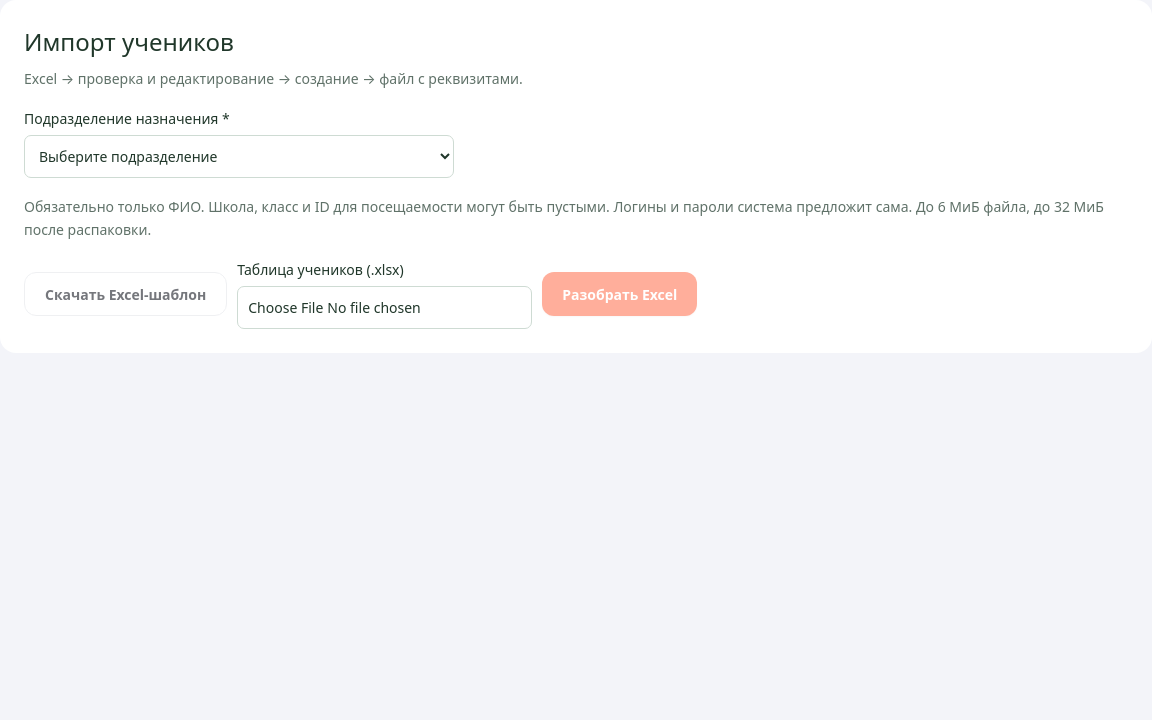
it: requires explicit destination and keeps invalid preview side-effect-free
Expected: the button "Разобрать Excel" is disabled, [542,272,697,316]
Select "QA Резерв" in the dropdown labelled "Подразделение назначения" at (239, 157), box [24,135,454,178]
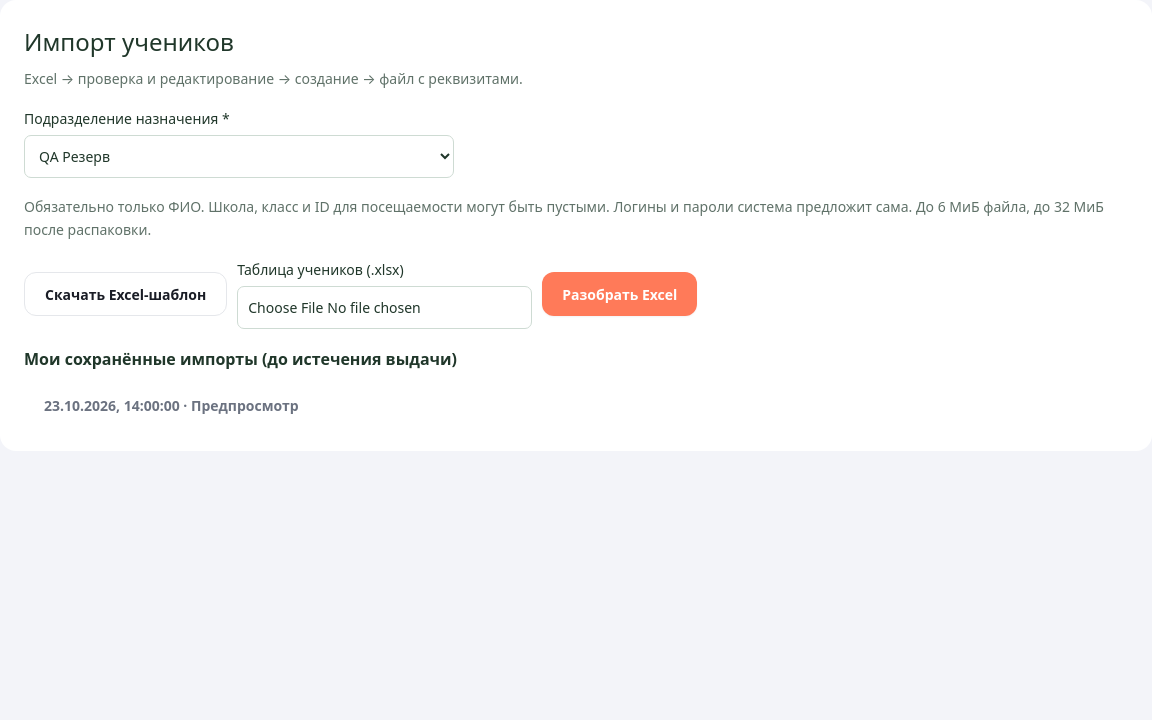
Click the button "23.10.2026, 14:00:00 · Предпросмотр" at (171, 405), box [24,383,319,427]
(page scrolled)
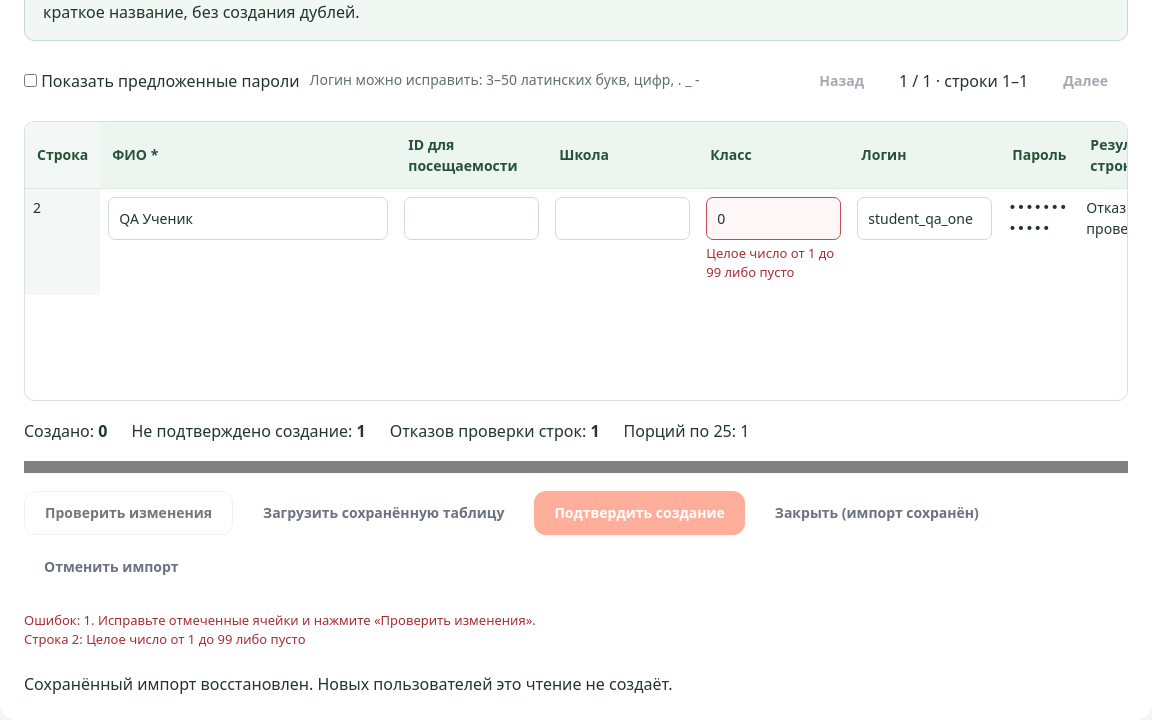
Result: the text "Отказ проверки" is shown at [1086,198,1128,238]
Result: the button "Подтвердить создание" is disabled at [534,490,745,534]
